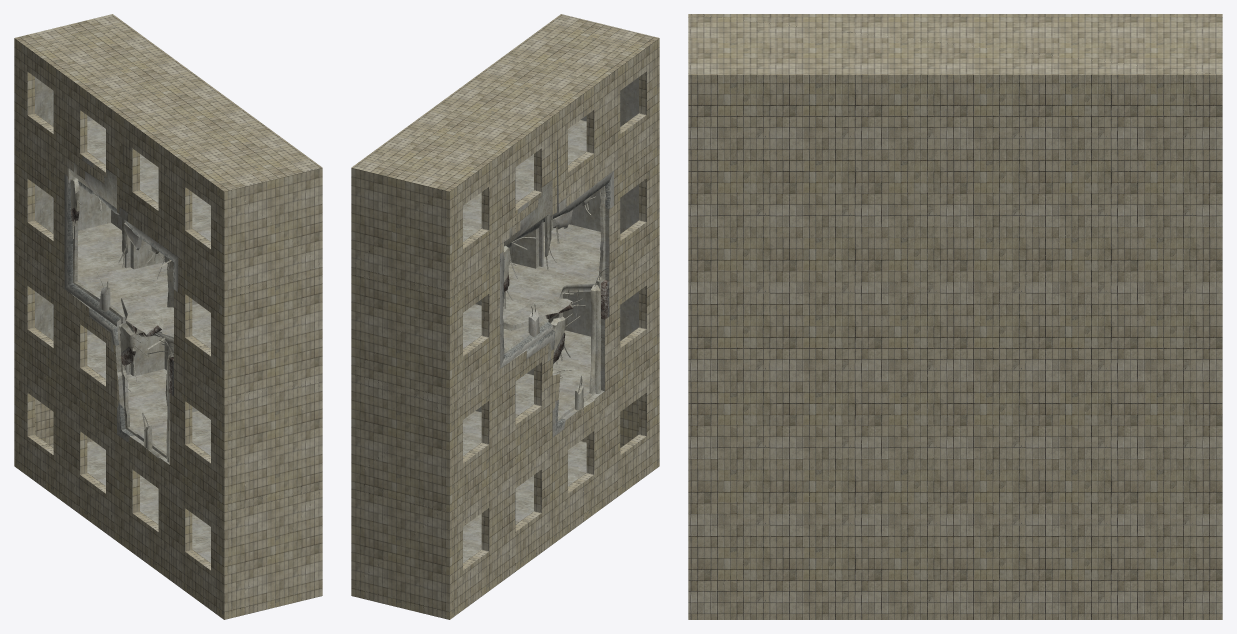
The model's file is civ_mid_broken_b.FBX.
3 views of the same model, side by side, from view 1: azimuth 30°, elevation 25°; view 2: azimuth 150°, elevation 25°; view 3: azimuth 270°, elevation 25° (orthographic). The views are drawn at different scales.
Visible parts, largest first — view 1: civ_mid_broken_b; view 2: civ_mid_broken_b; view 3: civ_mid_broken_b.
Part boxes in pixels (box(x1,y1,x2,y2)): civ_mid_broken_b: box(14, 14, 322, 619); civ_mid_broken_b: box(351, 14, 659, 619); civ_mid_broken_b: box(688, 14, 1222, 619).
Bounding box in the file's own units: 355 × 1350 × 1200.
